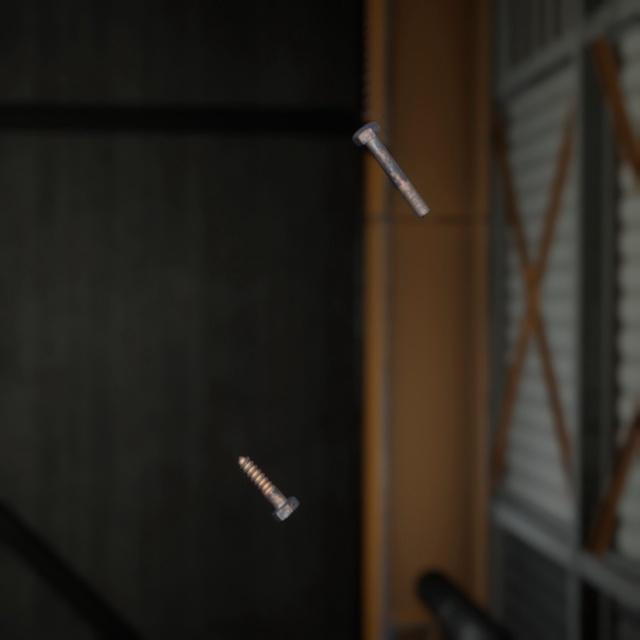bolt: (347, 104, 434, 209), (233, 430, 304, 505)
